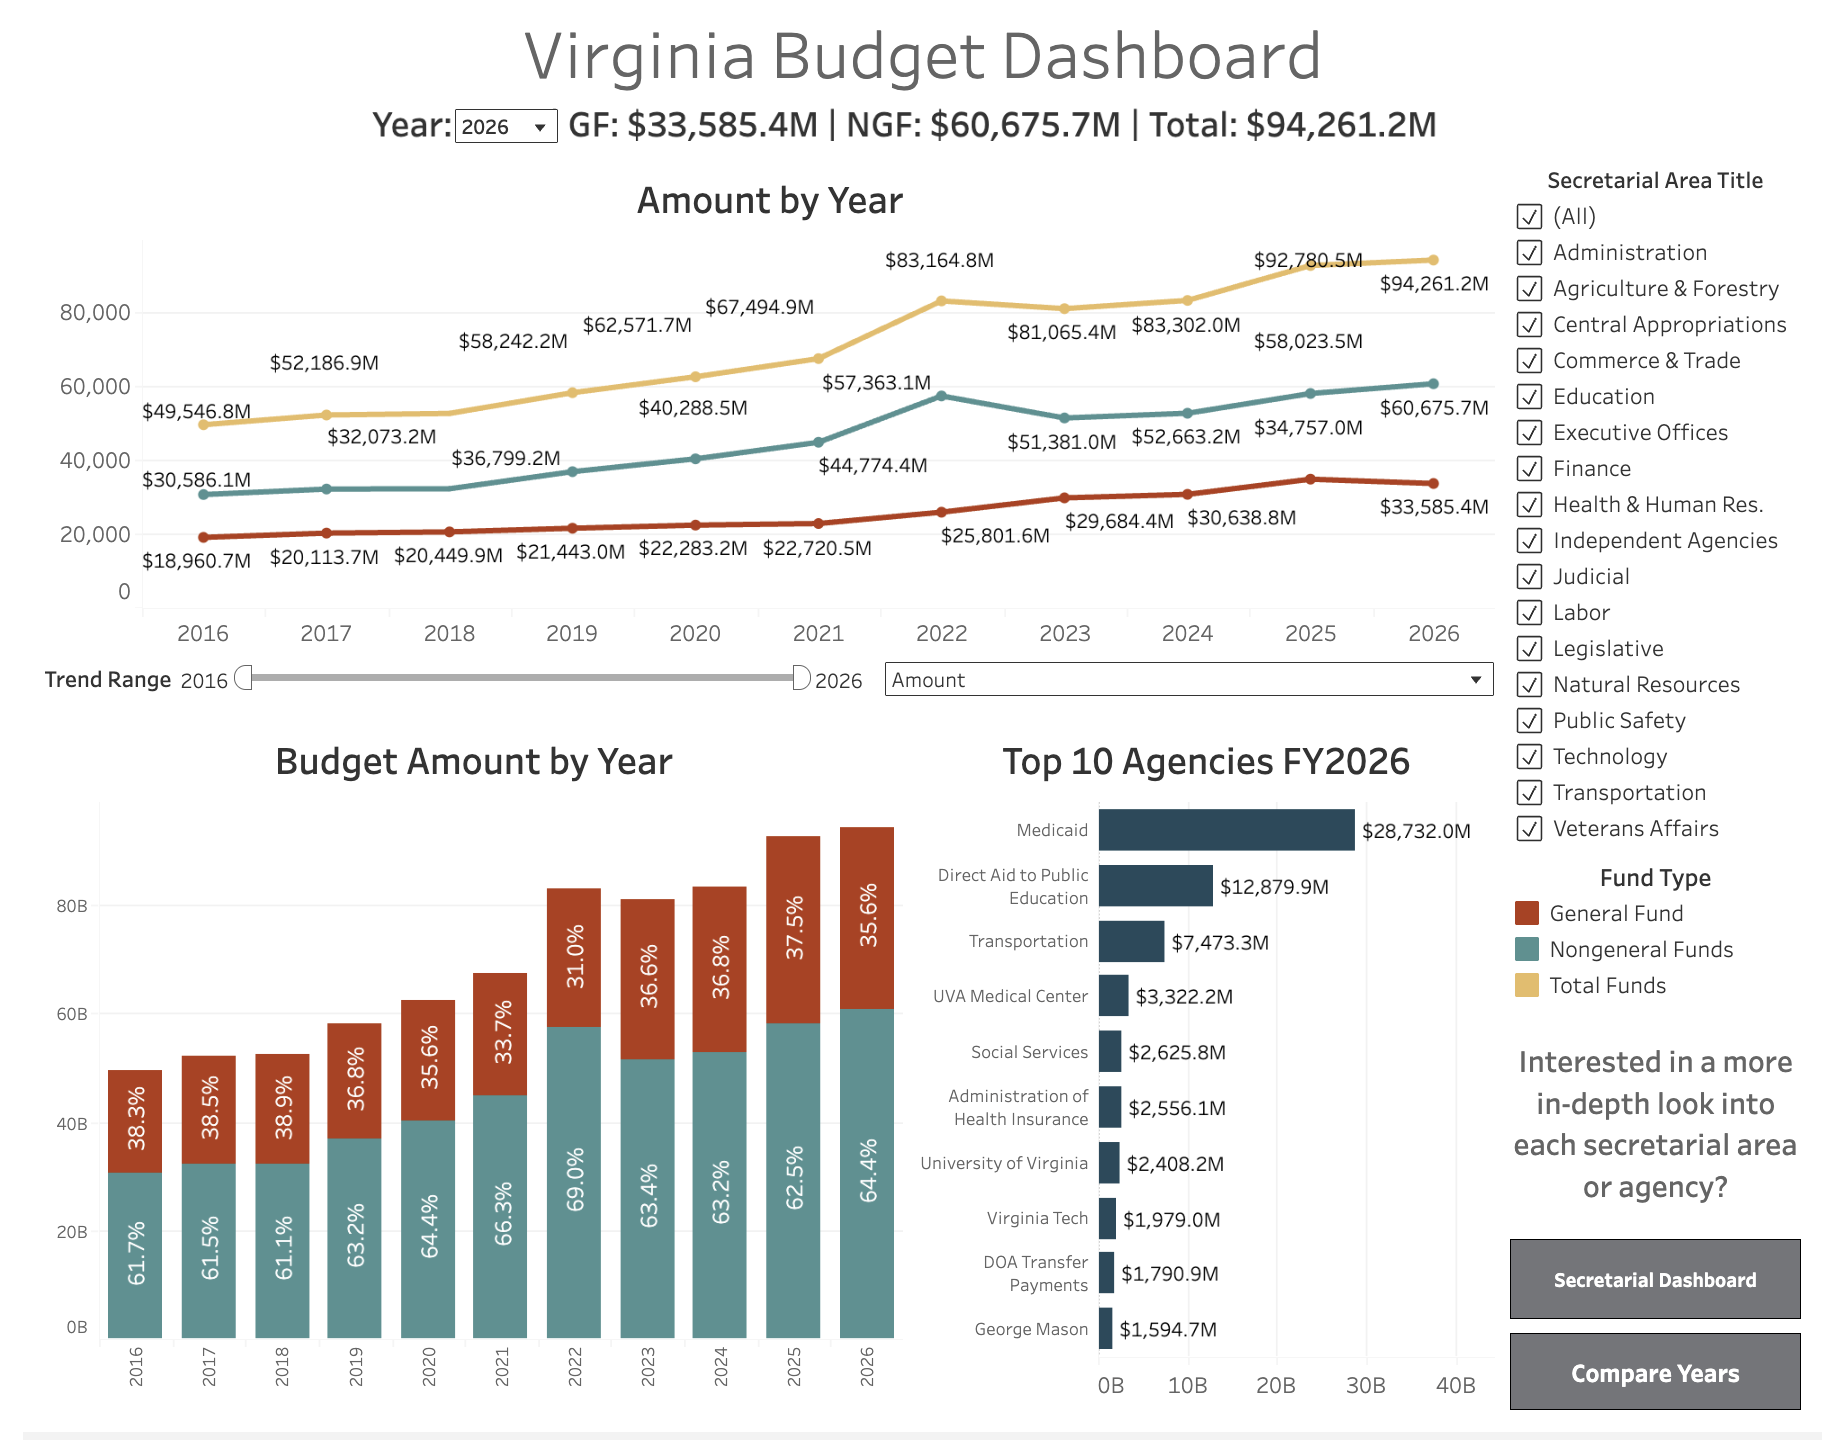

What the dashboard file says about the page in this screenshot:
{"tool":"tableau","page":{"name":"0-Main Dash","canvas":[1000,800],"ordinal":1},"visuals":[{"type":"text","box":[8,8,984,51]},{"type":"blank","box":[8,59,178,32]},{"type":"worksheet","title":"0- Words","mark":"Automatic","box":[186,59,625,32]},{"type":"blank","box":[811,59,181,32]},{"type":"filter","title":"0- Top 10 agencies","param":"[federated.18afs64033ojim1fb0nl21qirvqy].[none:Year (copy)_1231459209961483:ok]","box":[239,65,59,30]},{"type":"worksheet","title":"0-year/type","mark":"Line","rows":["Calculation_1231459193212932"],"cols":["year"],"box":[8,91,814,276.9]},{"type":"filter","title":"0-year and total bar","param":"[federated.18afs64033ojim1fb0nl21qirvqy].[none:SecretarialAreaTitle:nk]","box":[822,91,170,387]},{"type":"filter","title":"0-year/type","param":"[federated.18afs64033ojim1fb0nl21qirvqy].[none:Year (copy)_1231459209961483:qk]","box":[8,367.9,465.7,34.7]},{"type":"parameter","param":"[Parameters].[Parameter 1]","box":[473.7,367.9,348.3,34.7]},{"type":"worksheet","title":"0-year and total bar","mark":"Automatic","rows":["amount"],"cols":["year"],"box":[8,402.7,485.4,389.3]},{"type":"worksheet","title":"0- Top 10 agencies","mark":"Automatic","rows":["AgencyTitle"],"cols":["amount"],"box":[493.4,402.7,328.6,389.3]},{"type":"legend","title":"0-year/type","param":"[federated.18afs64033ojim1fb0nl21qirvqy].[none:type:nk]","box":[822,478,170,87]},{"type":"text","box":[822,568,170,121]},{"type":"dashboard-object","box":[822,689,170,52]},{"type":"dashboard-object","box":[822,741,170,51]}]}

Visuals, with their boxes in screenshot pixels (x1, y1, x2, y2), scaled from the page's 1000x800 canvas onto the 1822x1440 screenshot:
text: [15,14,1807,106]
blank: [15,106,339,164]
"0- Words" worksheet: [339,106,1478,164]
blank: [1478,106,1807,164]
"0- Top 10 agencies" filter: [435,117,543,171]
"0-year/type" worksheet (Line marks): [15,164,1498,662]
"0-year and total bar" filter: [1498,164,1807,860]
"0-year/type" filter: [15,662,863,725]
parameter: [863,662,1498,725]
"0-year and total bar" worksheet: [15,725,899,1426]
"0- Top 10 agencies" worksheet: [899,725,1498,1426]
"0-year/type" legend: [1498,860,1807,1017]
text: [1498,1022,1807,1240]
dashboard-object: [1498,1240,1807,1334]
dashboard-object: [1498,1334,1807,1426]
